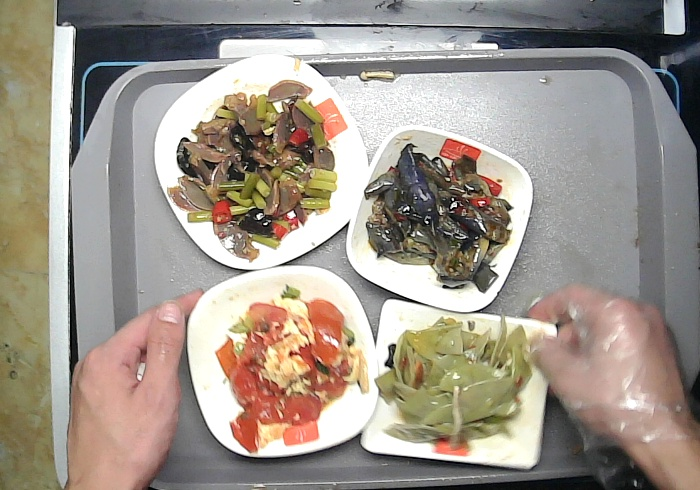SHKJ-Bai_Se_Cai_Die: (184, 265, 379, 459)
SHKJ-Bai_Se_Si_Fang_Cai_Die: (152, 53, 371, 271)
SHKJ-Bai_Se_Xiao_Fang_Die: (345, 121, 533, 314)
SHKJ-Si_Fang_Min: (358, 297, 558, 471)
